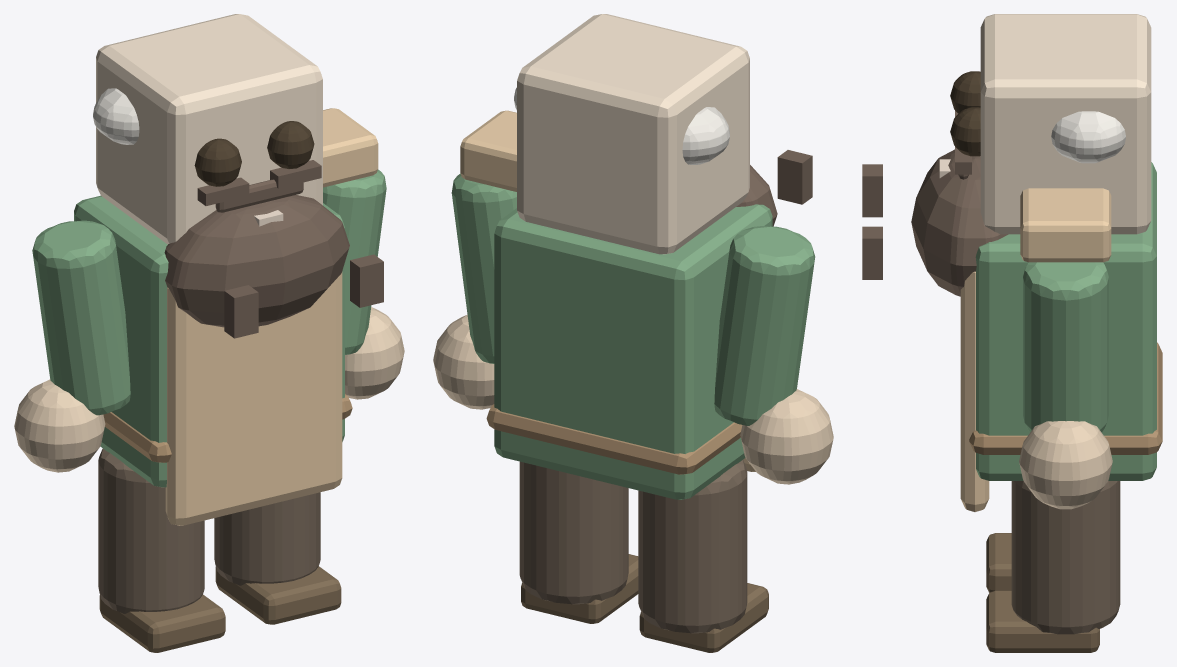
Rendered from npc_hod.glb.
3 renders of one model, left to right at view 1: azimuth 30°, elevation 25°; view 2: azimuth 150°, elevation 25°; view 3: azimuth 270°, elevation 25°, orthographic. The views are drawn at different scales.
Parts seen in each view (by area): view 1: Apron, Head, Beard, Arm_L, Leg_L, Body, Leg_R, Hand_L, Arm_R, Boot_R, Boot_L, Hand_R (+10 smaller); view 2: Body, Head, Arm_L, Leg_L, Leg_R, Arm_R, Hand_L, Belt, Hand_R, ShoulderPad, Boot_L, Boot_R (+3 smaller); view 3: Head, Body, Leg_R, Arm_R, Beard, ShoulderPad, Hand_R, Apron, Boot_R, Hair_TuftR, Belt, Boot_L (+4 smaller).
Part boxes in pixels (left/top/right/bottom): Apron: left=165, top=272, right=342, bottom=525; Head: left=96, top=14, right=322, bottom=244; Beard: left=164, top=195, right=349, bottom=327; Arm_L: left=32, top=220, right=130, bottom=415; Leg_L: left=98, top=448, right=204, bottom=613; Body: left=74, top=195, right=344, bottom=487; Leg_R: left=214, top=492, right=320, bottom=585; Hand_L: left=14, top=379, right=105, bottom=472; Arm_R: left=323, top=169, right=386, bottom=354; Boot_R: left=215, top=566, right=341, bottom=624; Boot_L: left=99, top=594, right=225, bottom=652; Hand_R: left=345, top=307, right=404, bottom=399; Body: left=494, top=204, right=772, bottom=499; Head: left=517, top=14, right=749, bottom=254; Arm_L: left=714, top=226, right=815, bottom=425; Leg_L: left=638, top=460, right=747, bottom=633; Leg_R: left=519, top=461, right=628, bottom=604; Arm_R: left=451, top=173, right=516, bottom=363; Hand_L: left=740, top=389, right=833, bottom=484; Belt: left=486, top=404, right=742, bottom=474; Hand_R: left=433, top=314, right=494, bottom=409; ShoulderPad: left=460, top=110, right=516, bottom=191; Boot_L: left=639, top=583, right=768, bottom=652; Boot_R: left=521, top=554, right=638, bottom=623; Head: left=980, top=14, right=1151, bottom=234; Body: left=975, top=162, right=1156, bottom=480; Leg_R: left=1011, top=481, right=1120, bottom=634; Arm_R: left=1023, top=262, right=1108, bottom=432; Beard: left=911, top=149, right=1008, bottom=296; ShoulderPad: left=1020, top=188, right=1111, bottom=262; Hand_R: left=1019, top=421, right=1112, bottom=509; Apron: left=960, top=271, right=989, bottom=511; Boot_R: left=986, top=590, right=1099, bottom=652; Hair_TuftR: left=1051, top=111, right=1125, bottom=163; Belt: left=969, top=342, right=1162, bottom=454; Boot_L: left=986, top=533, right=1011, bottom=592.
Bounding box in the file's own units: 0.7817 × 1.09 × 0.528.
